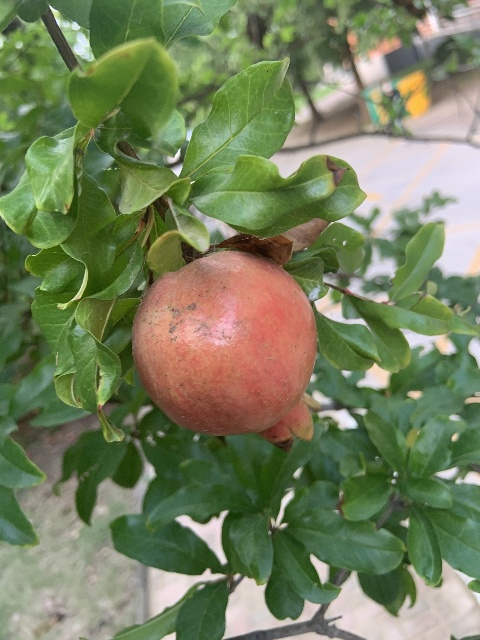ripe: (132, 250, 318, 443)
